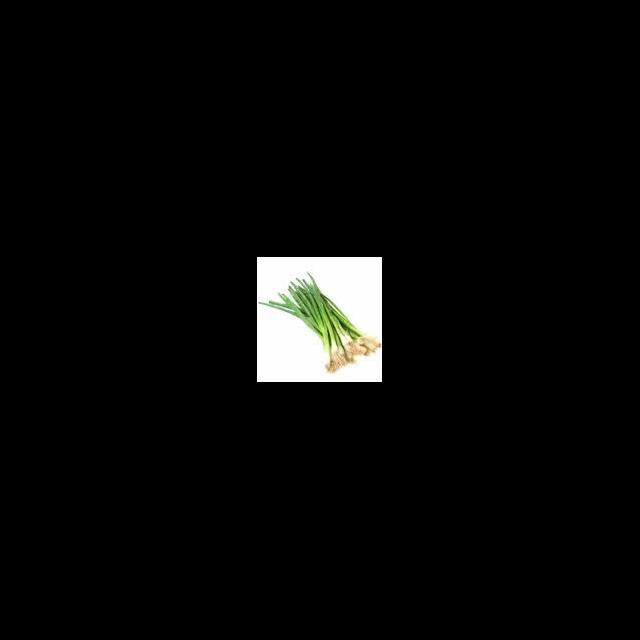green_onion: (259, 266, 382, 371)
